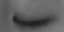RightEyeFatigue: (7, 11, 61, 32)
